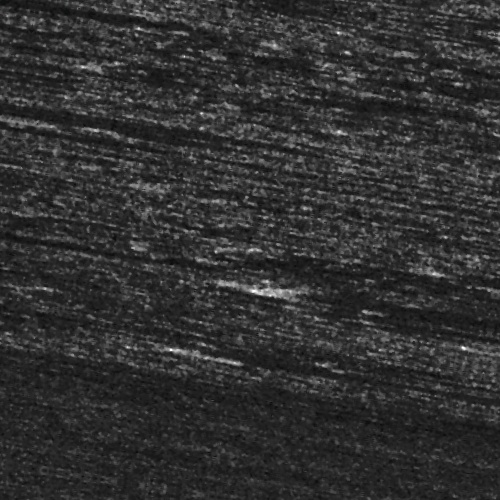object: (220, 276, 325, 293), (157, 355, 292, 364), (469, 0, 500, 1)
shadow: (0, 134, 242, 151), (273, 276, 500, 293), (0, 31, 189, 46), (224, 355, 500, 364), (0, 143, 134, 158), (0, 266, 213, 275), (0, 159, 198, 168), (0, 1, 93, 6)
